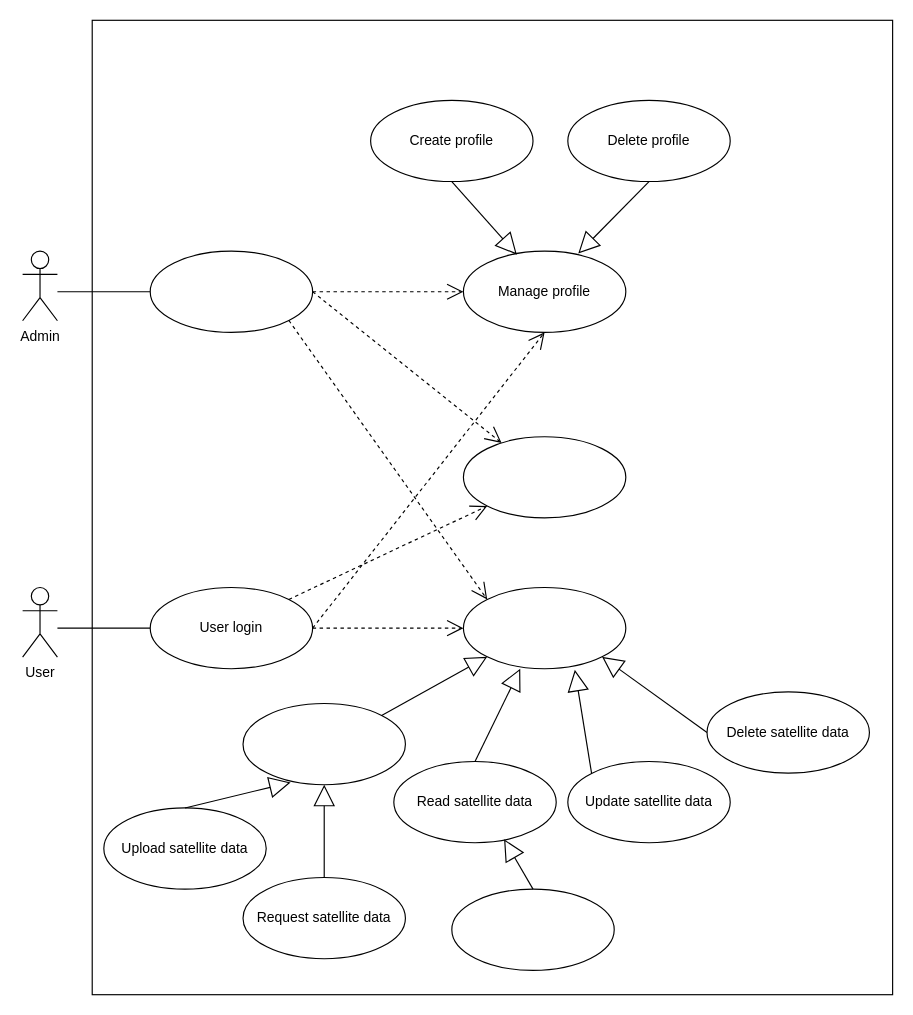
Image size: 913x1015. Some labels were removed from this diagram. The shapes that lost their labels are listed below. From the top down, each one's box as (x1, y1, x2, y2) in pixels, then its label:
(149, 250, 313, 332): Admin login
(462, 436, 626, 518): Search for satellite data
(462, 586, 626, 669): Manage satellite data
(242, 702, 405, 785): Create satellite data
(451, 888, 614, 970): Get satellite data's values
